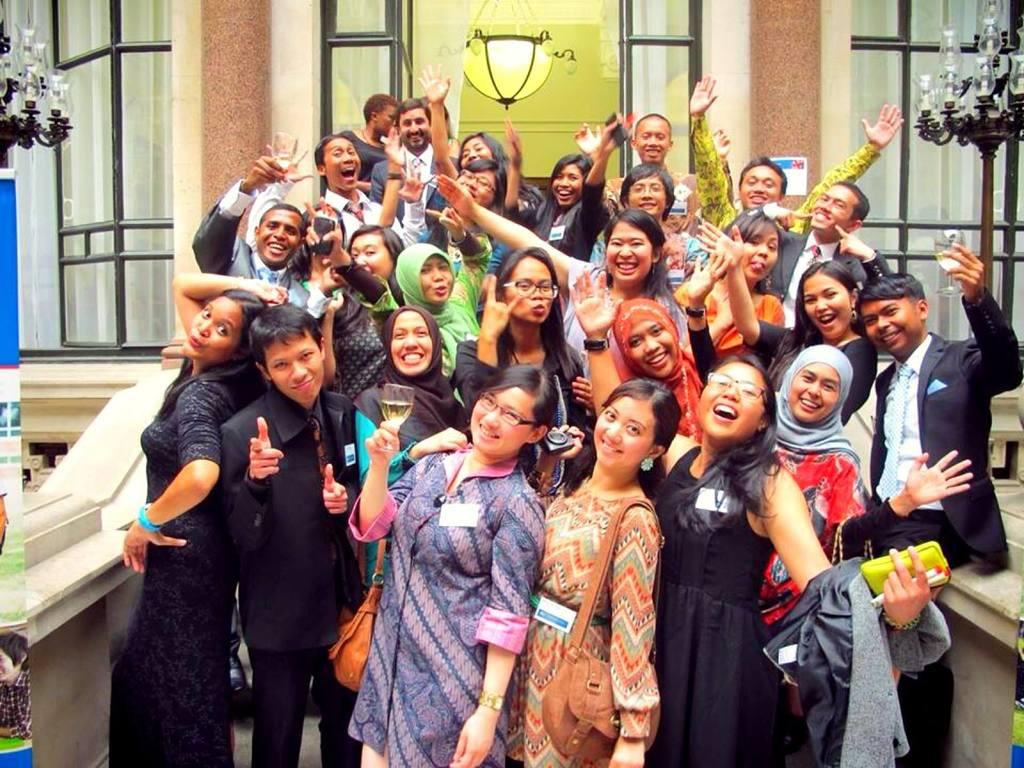face: (592, 375, 678, 486), (469, 368, 557, 472), (255, 306, 334, 412), (176, 284, 256, 374), (692, 354, 769, 446), (861, 274, 927, 363), (794, 260, 860, 348), (500, 249, 561, 328), (724, 212, 787, 283), (384, 306, 438, 386), (615, 305, 674, 377), (786, 357, 847, 423), (600, 218, 655, 288), (806, 177, 867, 240), (735, 149, 792, 215), (253, 203, 302, 275), (409, 245, 457, 301), (346, 232, 394, 285), (630, 115, 678, 168), (320, 137, 364, 194), (623, 169, 675, 217), (395, 101, 435, 152), (550, 157, 589, 209), (455, 134, 498, 172)
